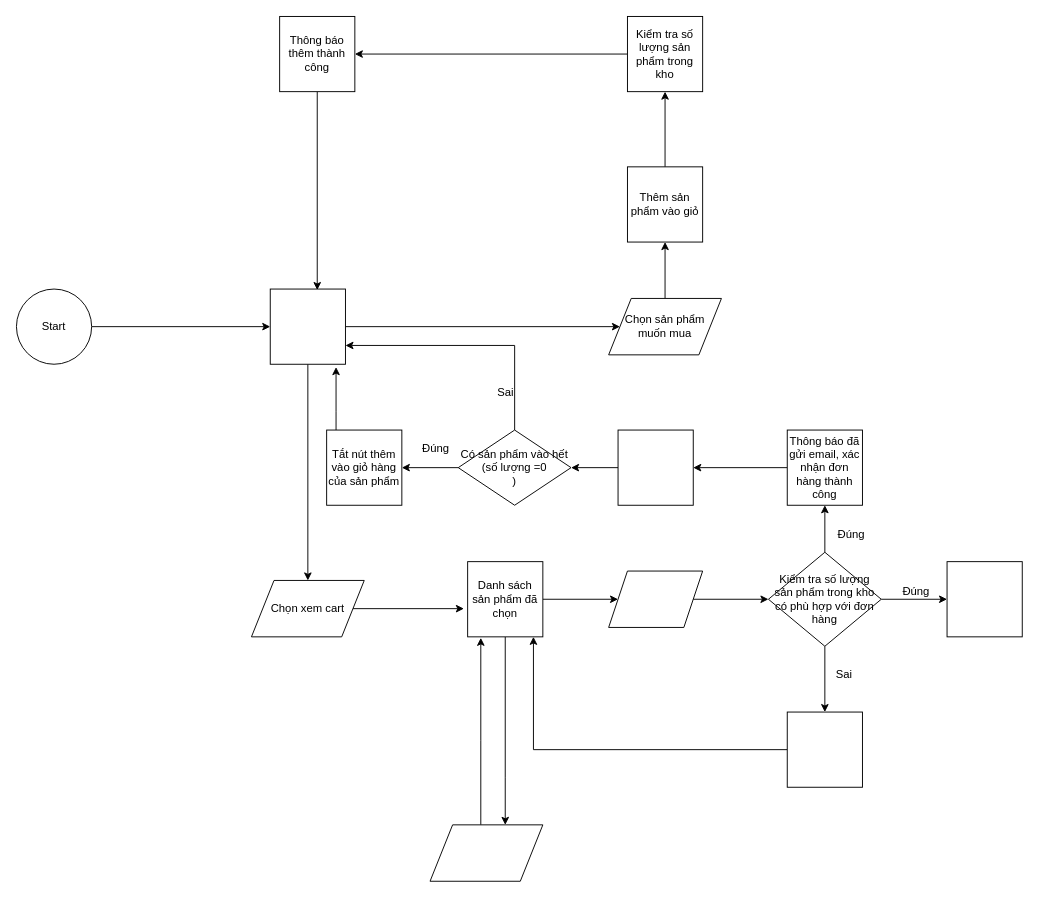
Some shapes in this 1039 by 898 pixel diagram are drawn without their labels. Here are the shapes that lost their labels. From the top down, the centre of each, then its label:
point 307,326: Danh sách sản phẩm
point 655,467: Cập nhật số lượng sản phẩm trong kho
point 655,598: Xác nhận đơn hàng
point 984,599: Gửi mail thông báo tới email người mua
point 824,749: Thông báo số lượng sản phẩm trong kho đã hết
point 486,852: Tăng/giảm số lượng sản phẩm
